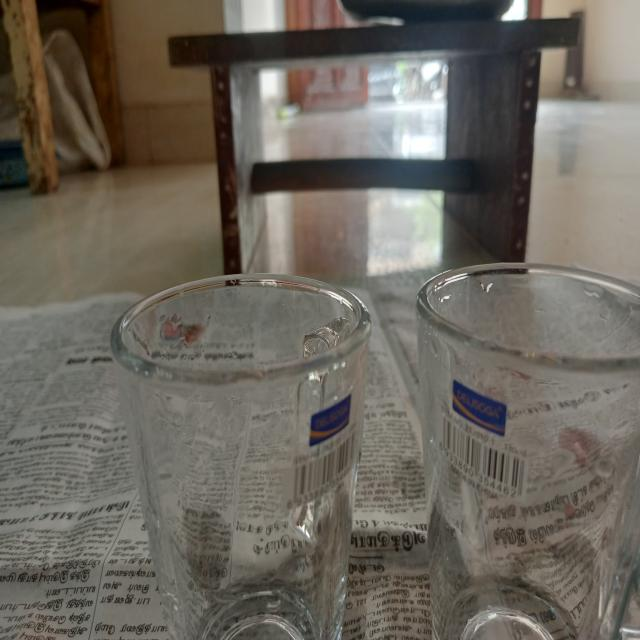glass-VX4N: (108, 268, 373, 640), (419, 252, 640, 640)
